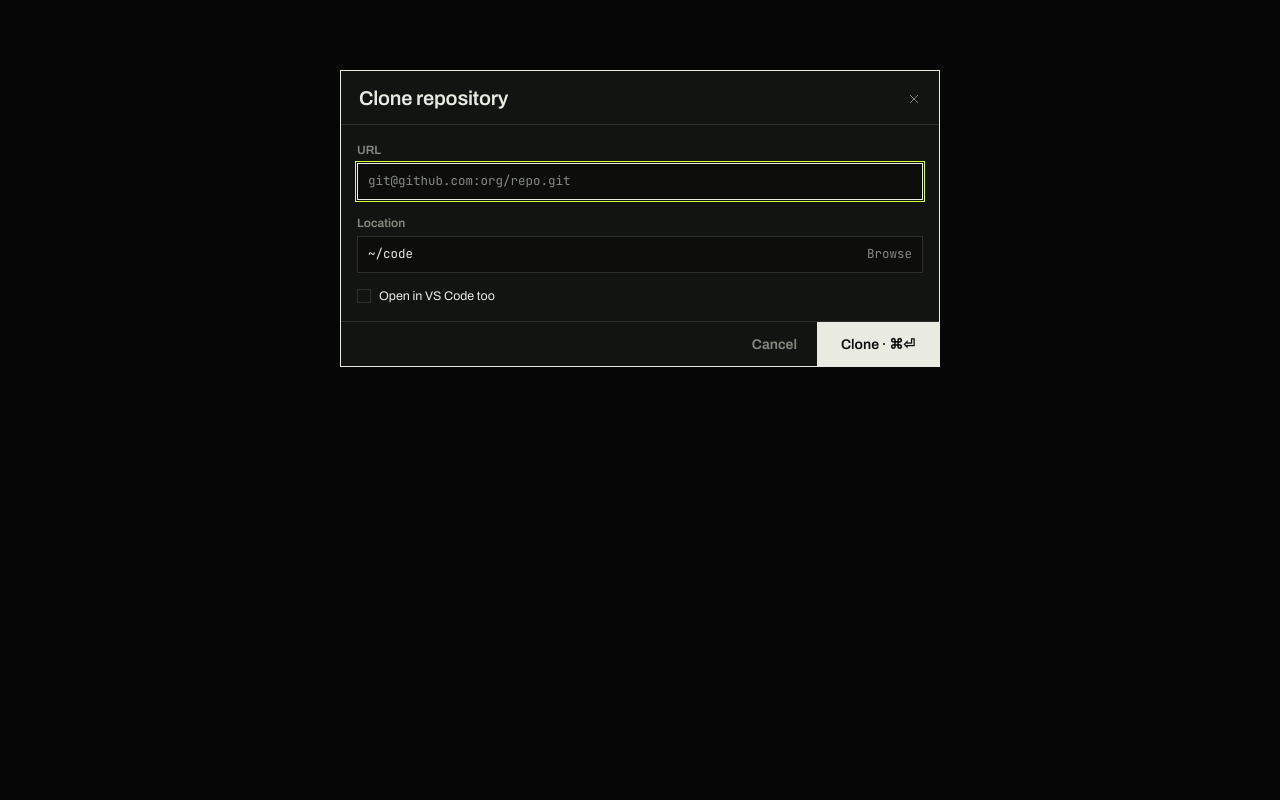
Test: NewProjectModal › clone mode › Browse picks the parent folder and appends the repo name
The image size is (1280, 800).
Type "git@github.com:acme/shop.git" into the field labelled "URL".
click(640, 181); type("git@github.com:acme/shop.git")  # box x1=368 y1=172 x2=912 y2=191
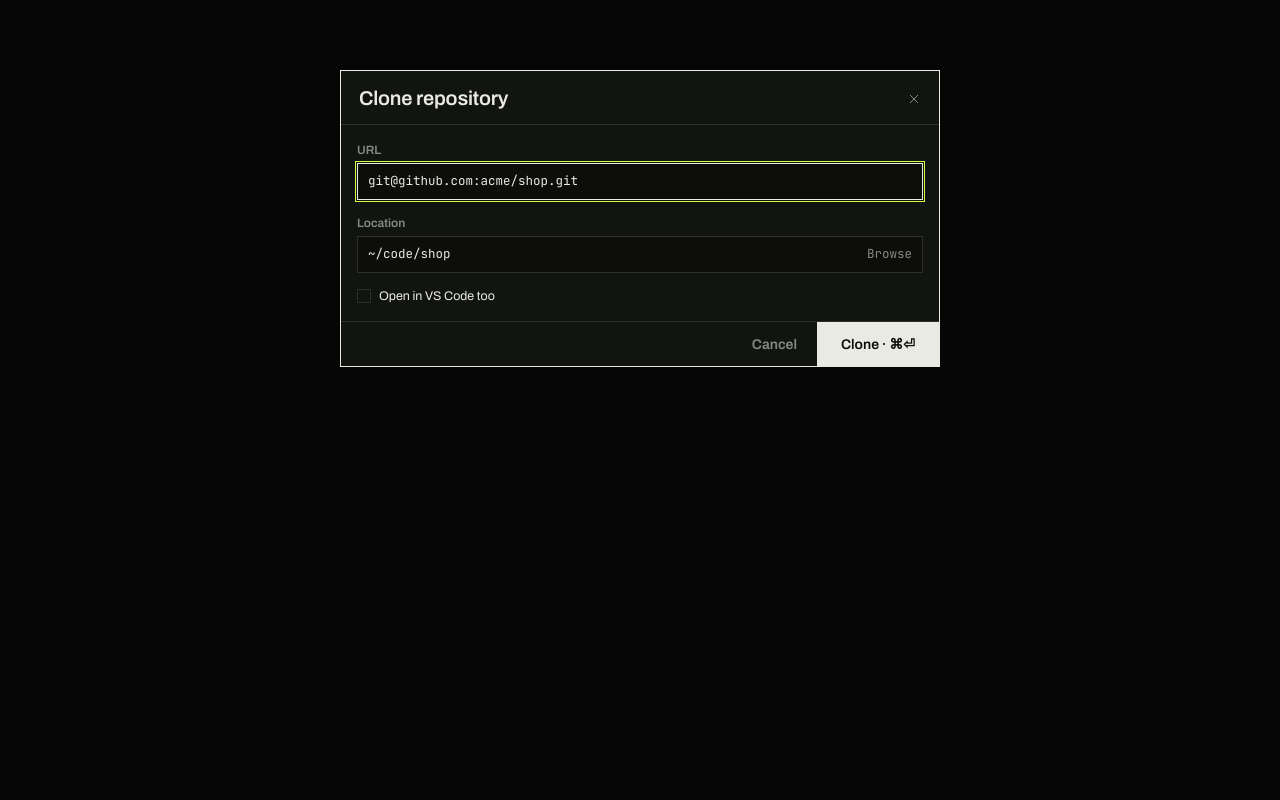
Click the button "Browse".
click(890, 254)  # box x1=867 y1=245 x2=912 y2=264
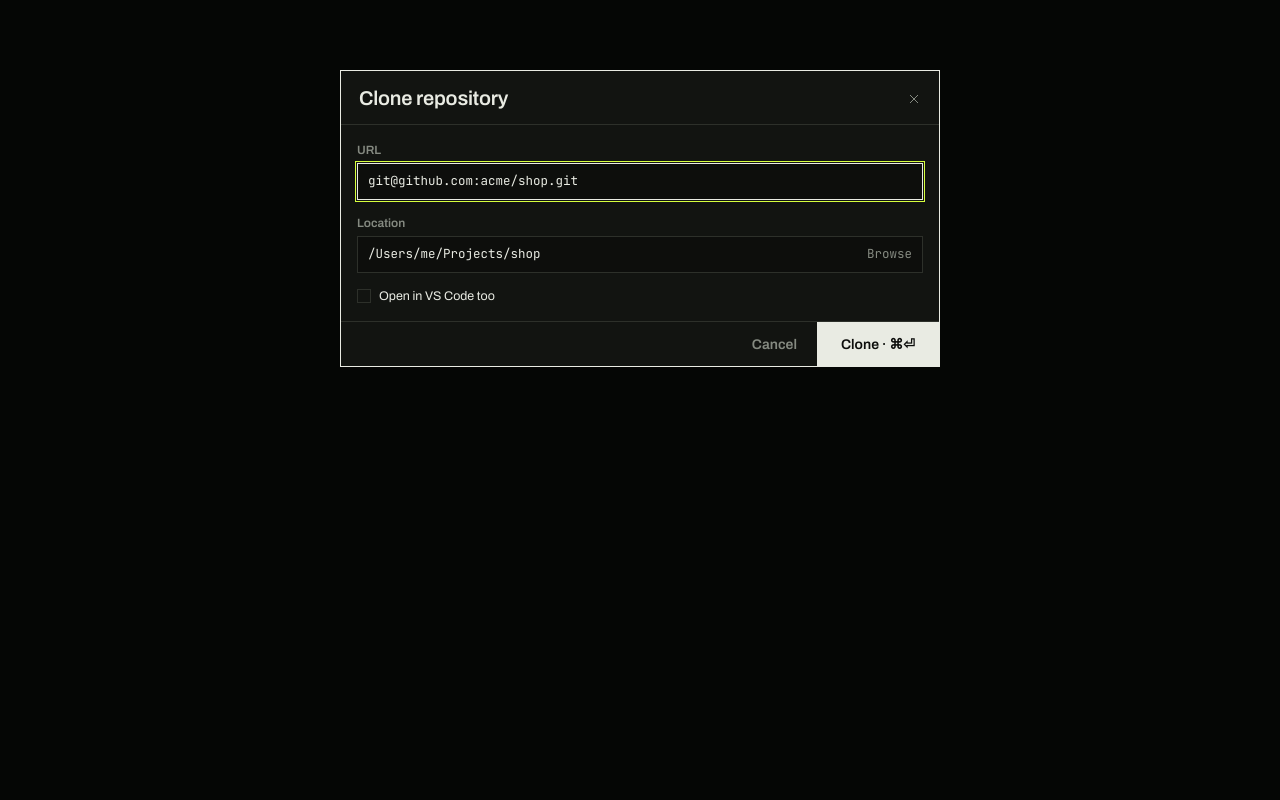
Expected: the field labelled "Location" holds "/Users/me/Projects/shop", x1=368 y1=245 x2=859 y2=264
